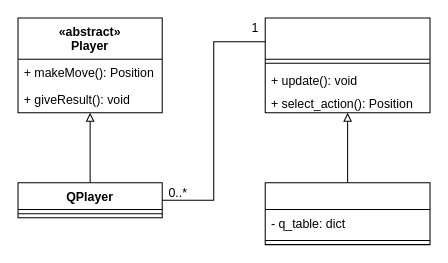
Image size: 448x263. Some labels were removed from this diagram. Each missing label, with the box of its shape:
QTableLearner: (264, 182, 430, 245)
«abstract» QLearner: (264, 17, 430, 113)
